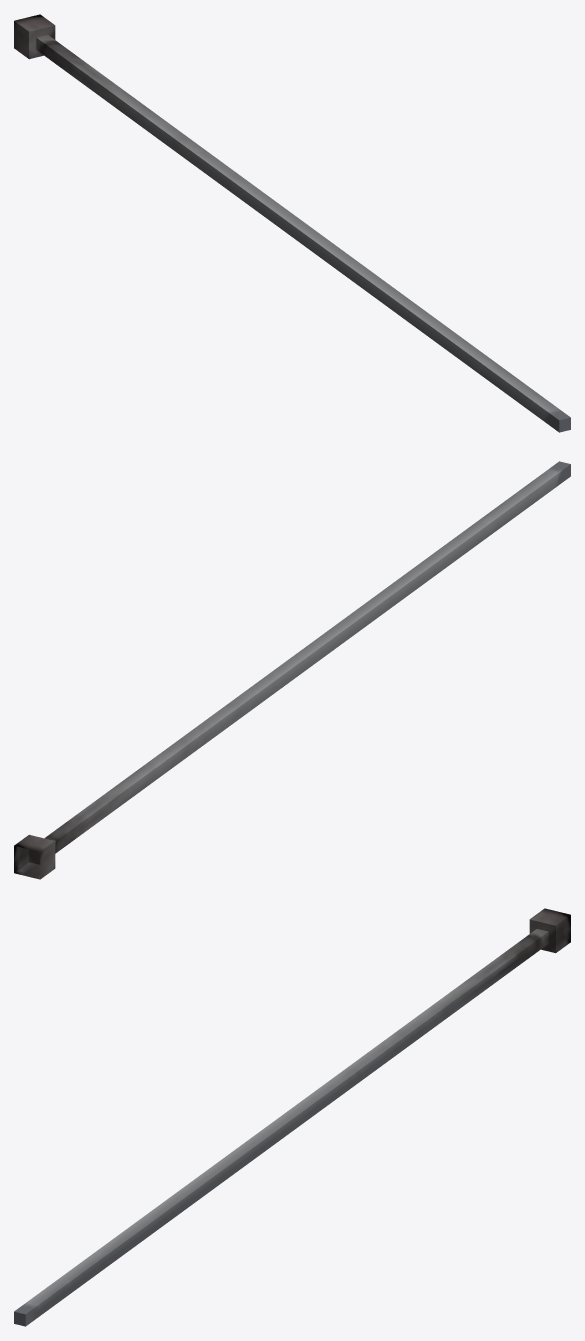
File: pz_native_street_decoration_01_24.obj
3 views of the same model, one above another, from view 1: azimuth 30°, elevation 25°; view 2: azimuth 150°, elevation 25°; view 3: azimuth 330°, elevation 25° (orthographic).
Visible parts, largest first — view 1: pz_native_street_decoration_01_24; view 2: pz_native_street_decoration_01_24; view 3: pz_native_street_decoration_01_24.
Part boxes in pixels (bbox=[...]): pz_native_street_decoration_01_24: bbox=[14, 14, 570, 432]; pz_native_street_decoration_01_24: bbox=[14, 461, 570, 879]; pz_native_street_decoration_01_24: bbox=[14, 908, 570, 1326].
Bounding box in the file's own units: 0.0703 × 0.0703 × 2.49.
1 material, 1 textured.
